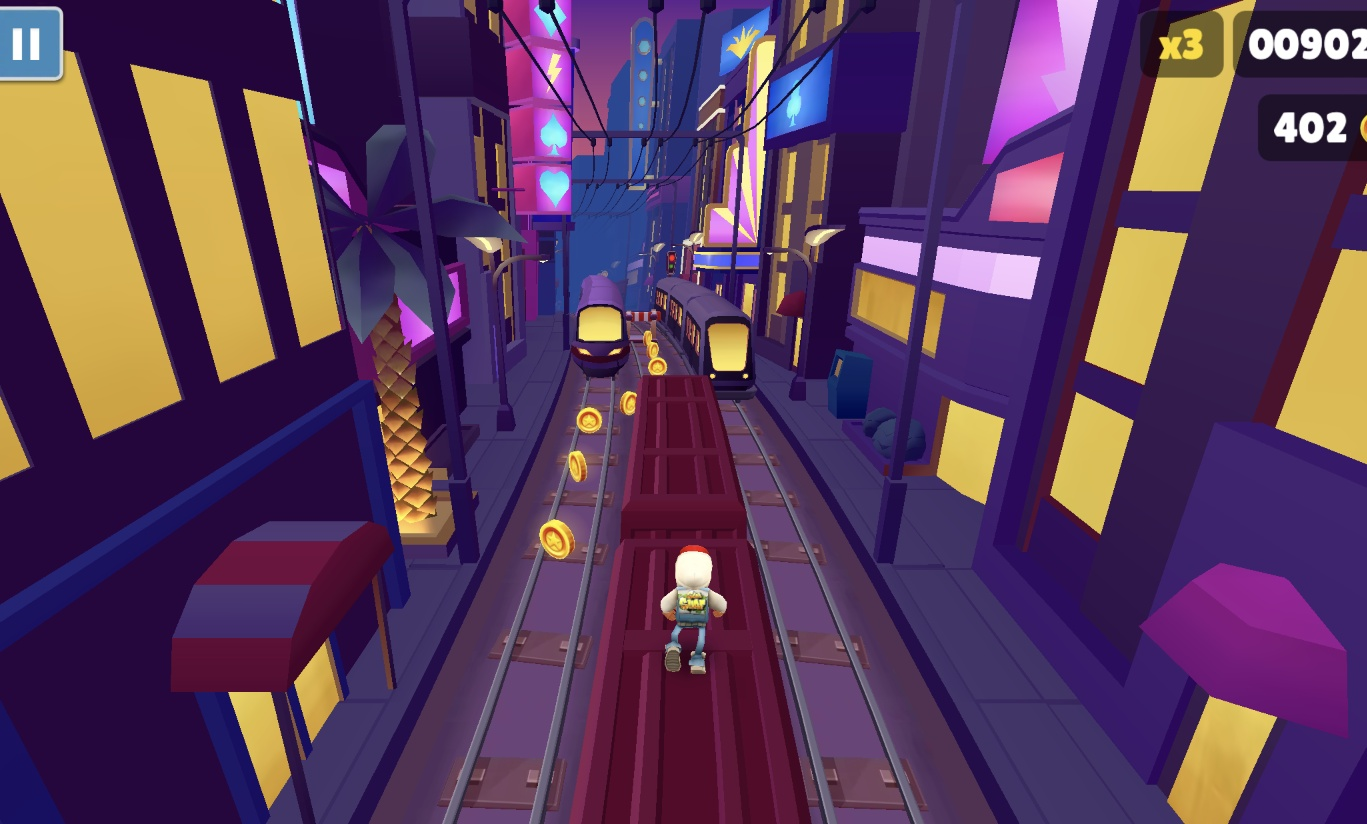ground_barrier: (627, 310, 658, 336)
train: (568, 375, 805, 824), (655, 274, 758, 401), (569, 274, 631, 379)
